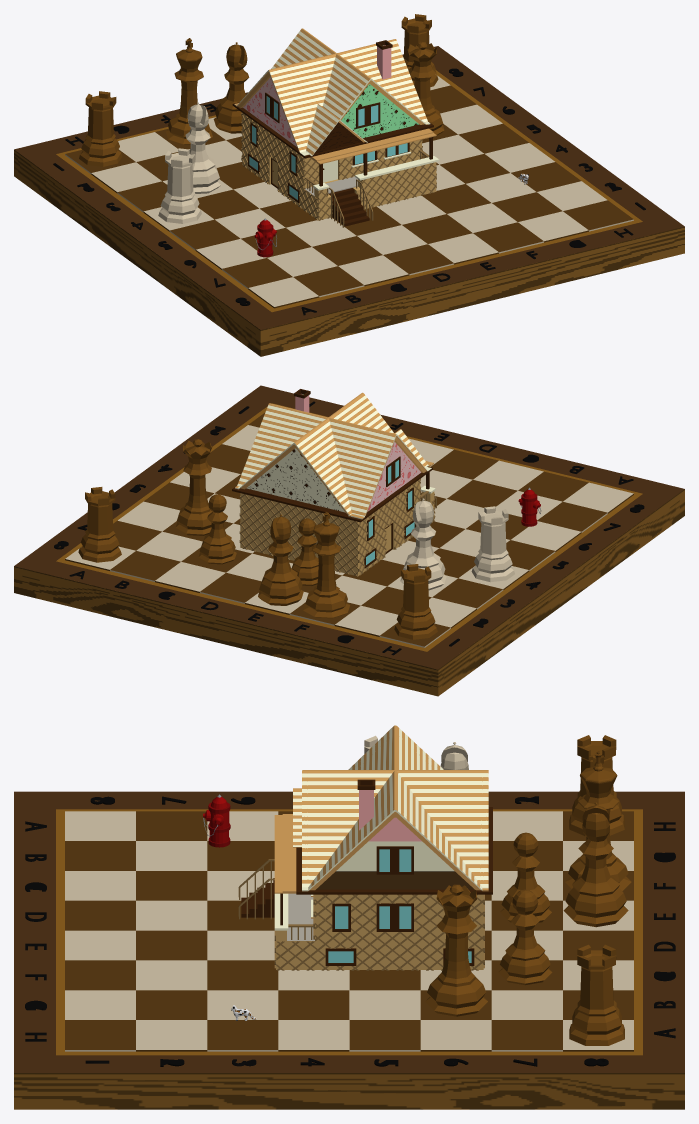
3 views of the same model, one above another, from view 1: azimuth 30°, elevation 25°; view 2: azimuth 150°, elevation 25°; view 3: azimuth 270°, elevation 25° (orthographic). The views are drawn at different scales.
Visible parts, largest first — view 1: Cube.002, Cube.1102, OBJRANDOM_FIRE_HYDRANT; view 2: Cube.002, Cube.1102, OBJRANDOM_FIRE_HYDRANT; view 3: Cube.002, Cube.1102, OBJRANDOM_FIRE_HYDRANT.
Part boxes in pixels (x1,y1,x2,y2): Cube.002: (14, 14, 684, 356); Cube.1102: (232, 28, 439, 227); OBJRANDOM_FIRE_HYDRANT: (254, 218, 276, 257); Cube.002: (14, 385, 684, 696); Cube.1102: (232, 389, 436, 576); OBJRANDOM_FIRE_HYDRANT: (518, 487, 541, 526); Cube.002: (14, 735, 684, 1109); Cube.1102: (238, 725, 492, 970); OBJRANDOM_FIRE_HYDRANT: (203, 794, 230, 847).
Size of the model in its own units: 3981 by 1484 by 4012.
25 materials, 3 textured.
